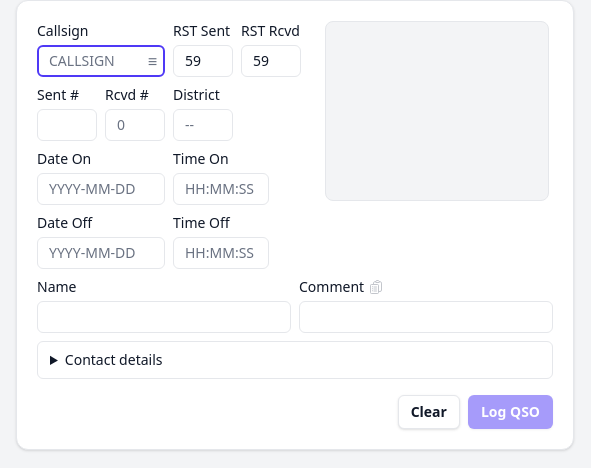
it: LoggingCard: contest exchange › in contest mode shows Sent #, Rcvd # and District; Tab out of the callsign fills Sent #
Expected: the field labelled "Sent #" is shown, x1=37 y1=109 x2=97 y2=141
Expected: the field labelled "Rcvd #" is shown, x1=105 y1=109 x2=165 y2=141
In the field labelled "Callsign": (101, 61) x1=37 y1=45 x2=165 y2=77, type "G4ABC"
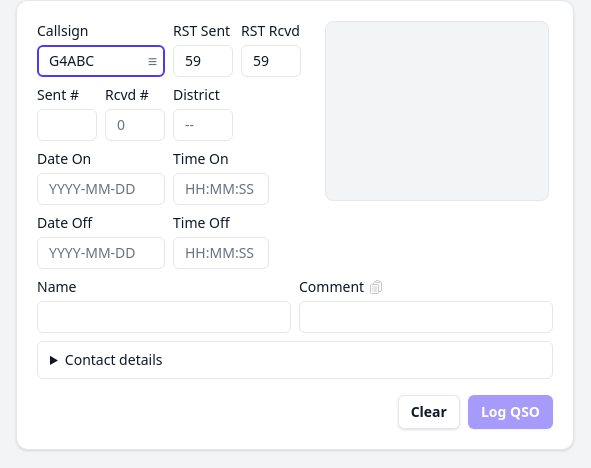
Press Tab in the field labelled "Callsign", box x1=37 y1=45 x2=165 y2=77
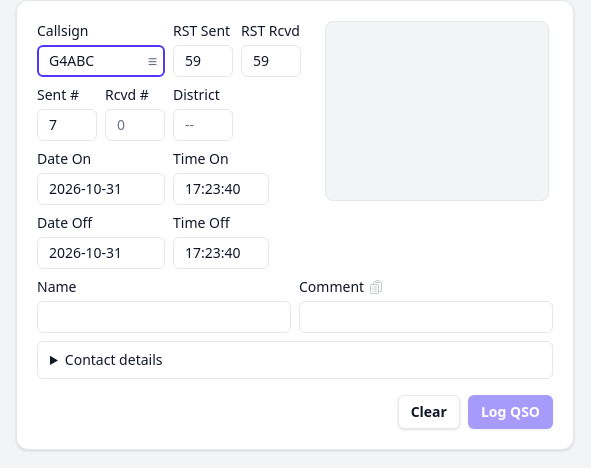
Expected: the field labelled "Sent #" holds "7", x1=37 y1=109 x2=97 y2=141
